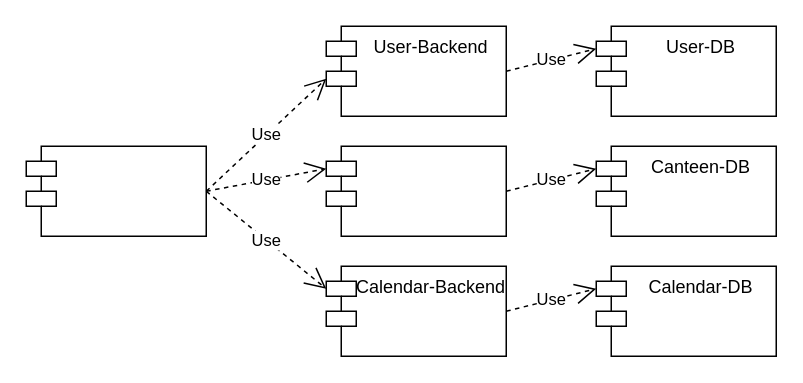
The diagram is 803 pixels wide and 383 high, and some of its shapes have lost their labels. Each missing label, with the box of its shape:
Canteen-Backend: (325, 145, 506, 236)
React-Frontend: (25, 145, 206, 236)
